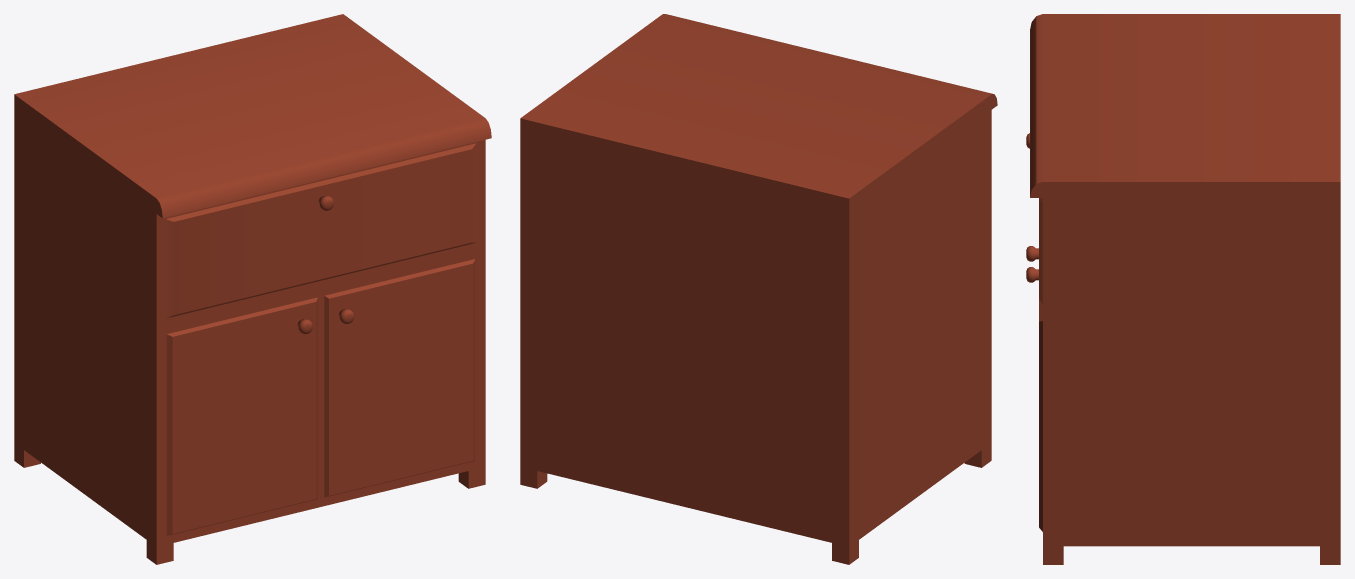
File: .fbx_K_chenschrank_0_84.fbx
The picture shows the model from 3 angles, left to right: view 1: azimuth 30°, elevation 25°; view 2: azimuth 150°, elevation 25°; view 3: azimuth 270°, elevation 25°; orthographic projection. The views are drawn at different scales.
Visible parts, largest first — view 1: Küchenschrank 0,84m; view 2: Küchenschrank 0,84m; view 3: Küchenschrank 0,84m.
Part boxes in pixels (x1,y1,x2,y2): Küchenschrank 0,84m: (14,14,491,564); Küchenschrank 0,84m: (520,14,997,564); Küchenschrank 0,84m: (1030,14,1340,564).
Size of the model in its own units: 0.8412 by 0.8954 by 0.6655.
